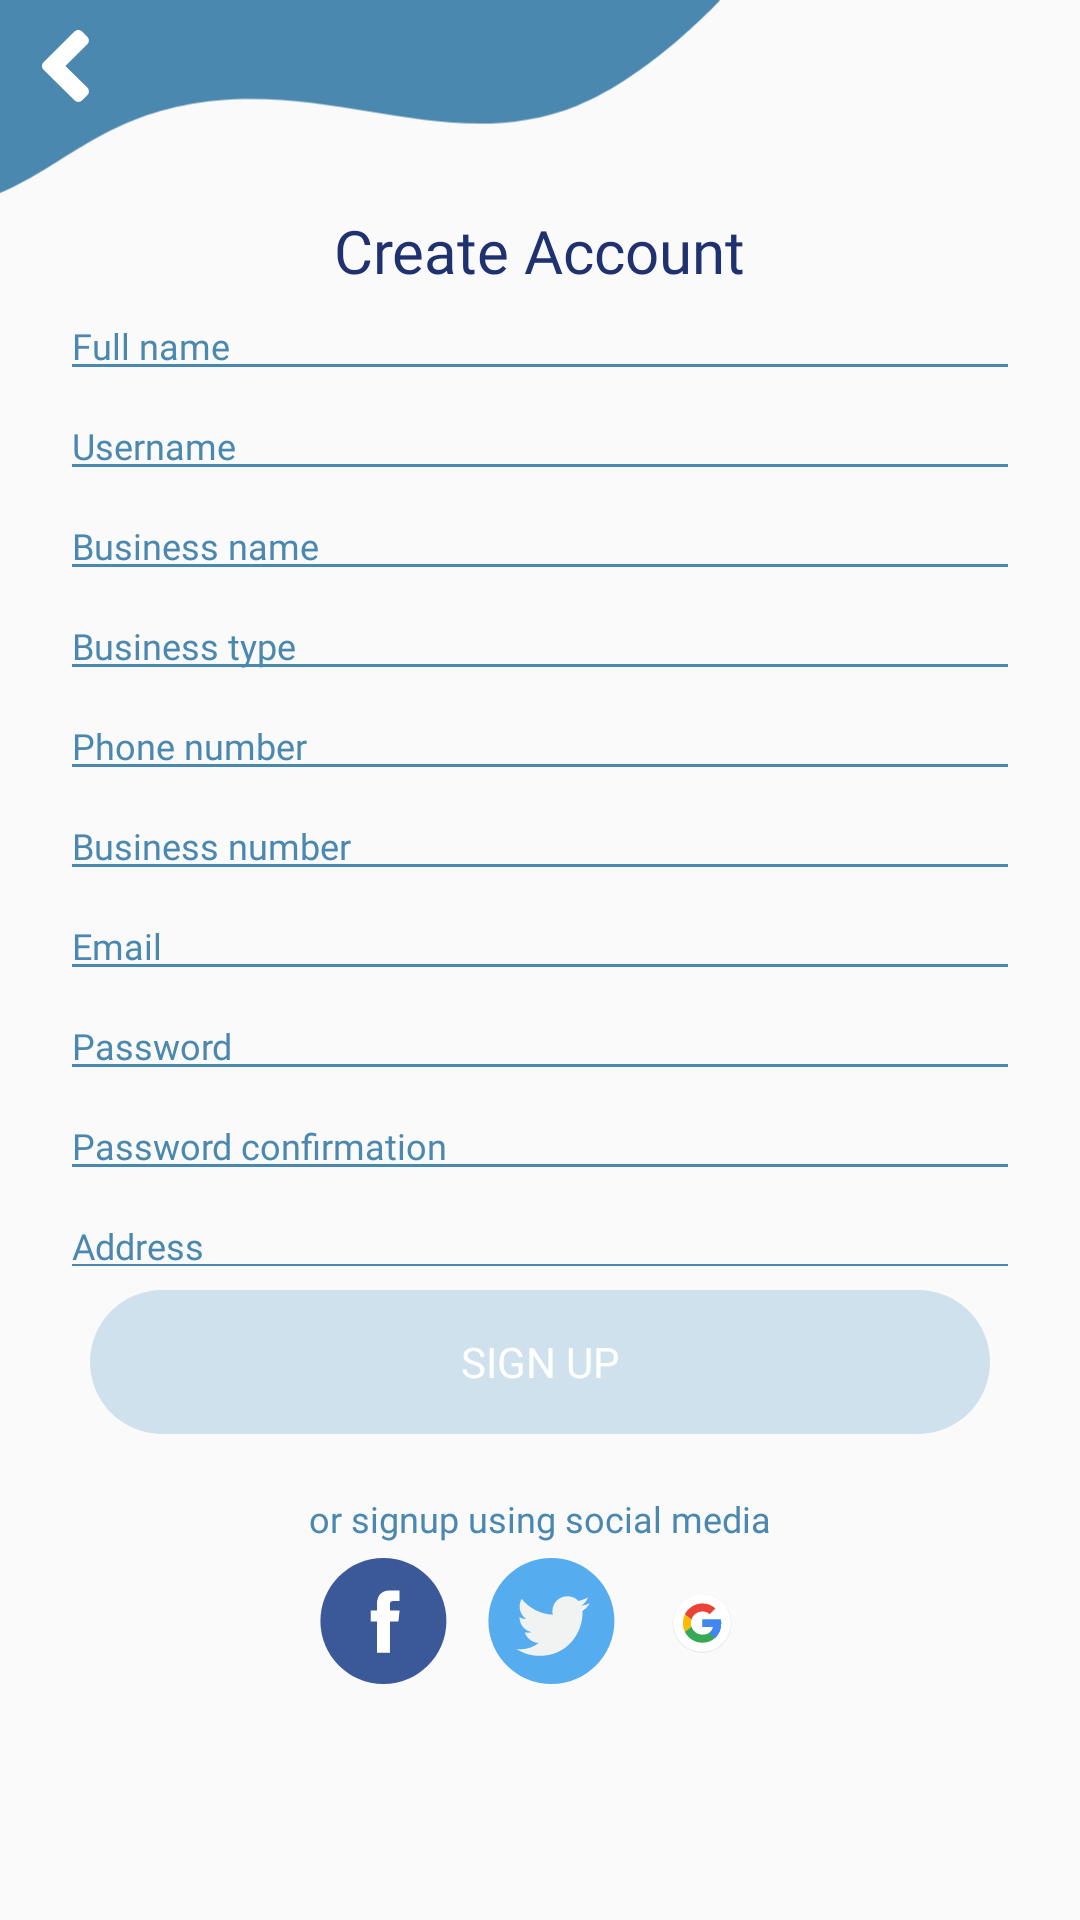

Named icons in this screenshot (1080x1920) and their bounding boxes, (x1, y1, x2, y2):
back arrow: (42, 30, 89, 102)
